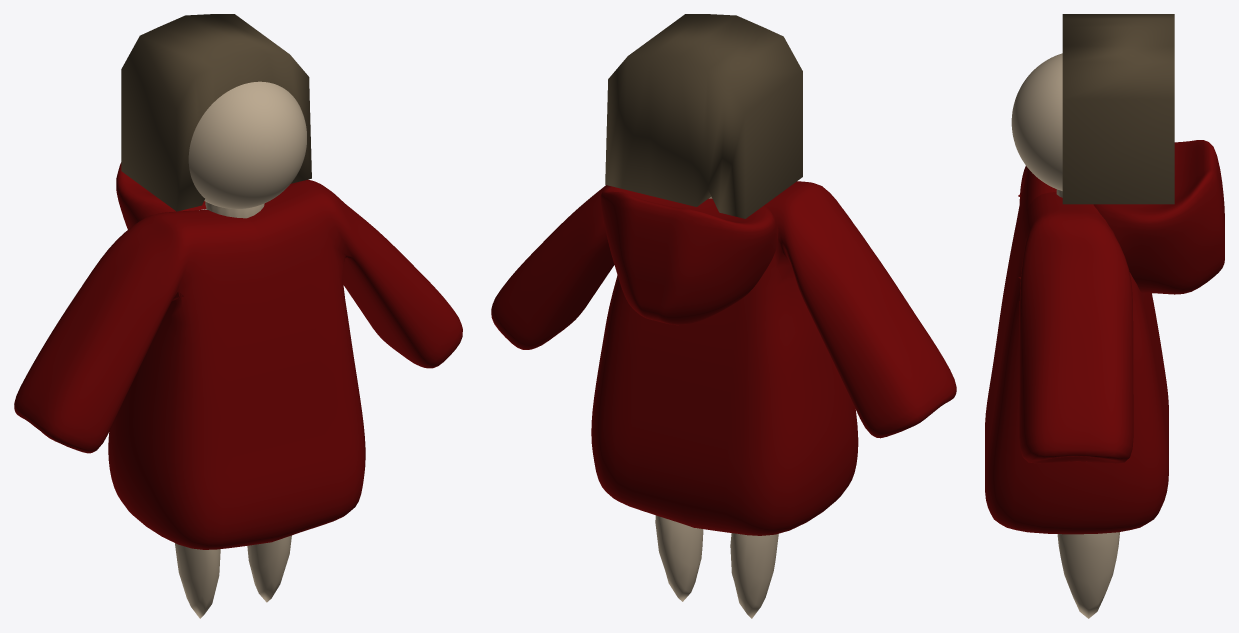
File: Character.fbx
3 renders of one model, left to right at view 1: azimuth 30°, elevation 25°; view 2: azimuth 150°, elevation 25°; view 3: azimuth 270°, elevation 25°, orthographic. The views are drawn at different scales.
Parts seen in each view (by area): view 1: pSphere3; view 2: pSphere3; view 3: pSphere3.
Boxes of the visible parts, left/top/right/bottom form: pSphere3: left=14, top=14, right=462, bottom=618; pSphere3: left=491, top=14, right=956, bottom=618; pSphere3: left=985, top=14, right=1224, bottom=618.
Bounding box in the file's own units: 3.68 × 4.75 × 1.8.
